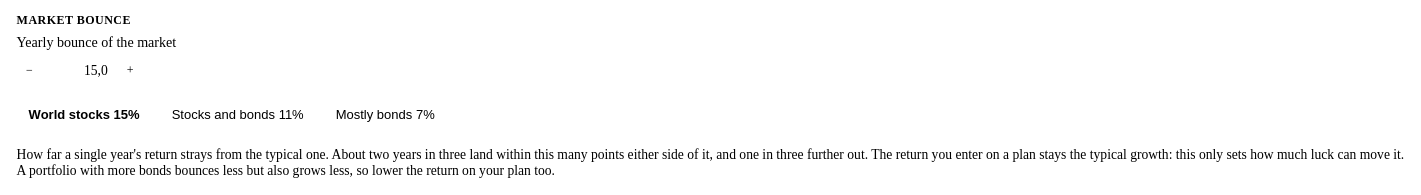
Test: MarketBounceSetting › steps by half a point and shows the step before the save lands
The width and height of the screenshot is (1421, 195).
Click the button named "Increase Market bounce". click: (130, 71)
box: x1=117 y1=58 x2=143 y2=83
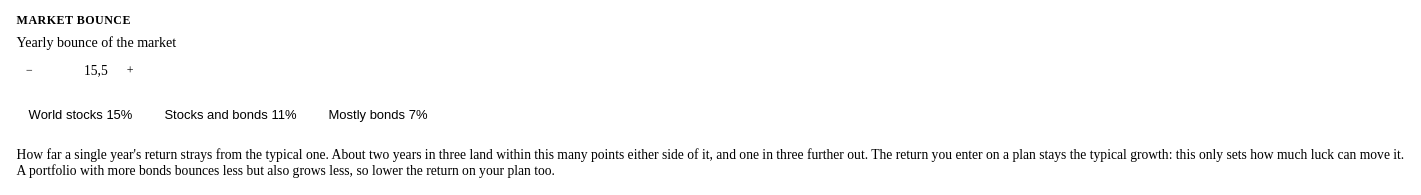
Expected: the field named "Market bounce" holds "15,5", x1=46 y1=59 x2=113 y2=83
